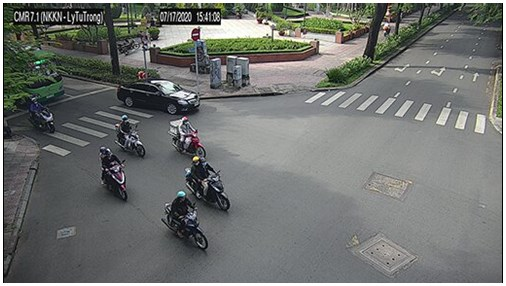xe_buyt: (22, 50, 66, 100)
xe_hoi: (117, 80, 200, 114)
xe_may: (161, 190, 209, 249), (184, 156, 230, 211), (98, 146, 128, 201), (169, 116, 207, 158), (115, 115, 146, 158), (26, 99, 56, 134), (118, 34, 140, 54)
